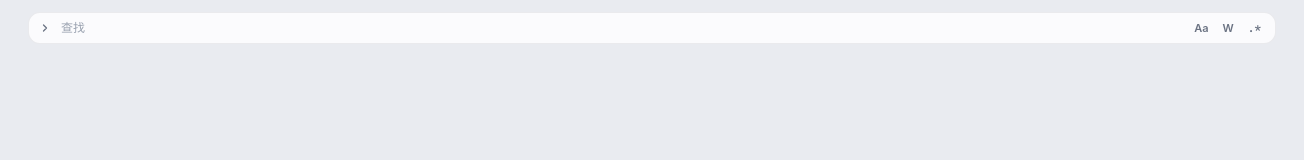
WorkspaceSearchPanel › debounce 后渲染按文件分组的命中行
Type "needle" into the field with test id "workspace-search-input" at coordinates (609, 28), box [33, 21, 1184, 35]
Wait 260 ms
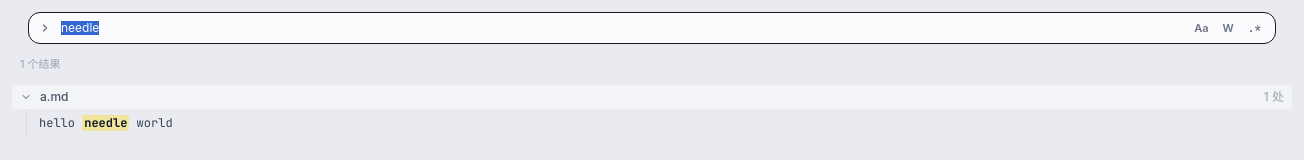
Expected: the text "a.md" is shown, [40, 88, 68, 104]
Expected: the text "hello needle world" is shown, [39, 114, 173, 130]
Expected: the text "needle" is shown, [82, 114, 129, 130]
